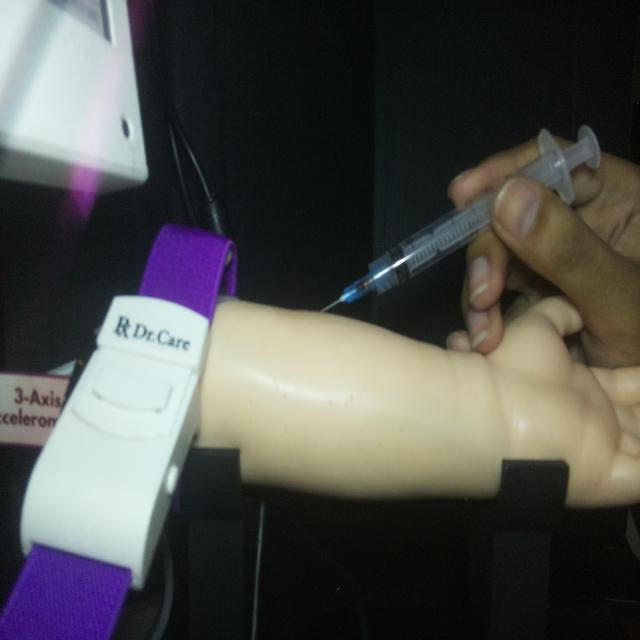24 degrees: (318, 121, 602, 315)
